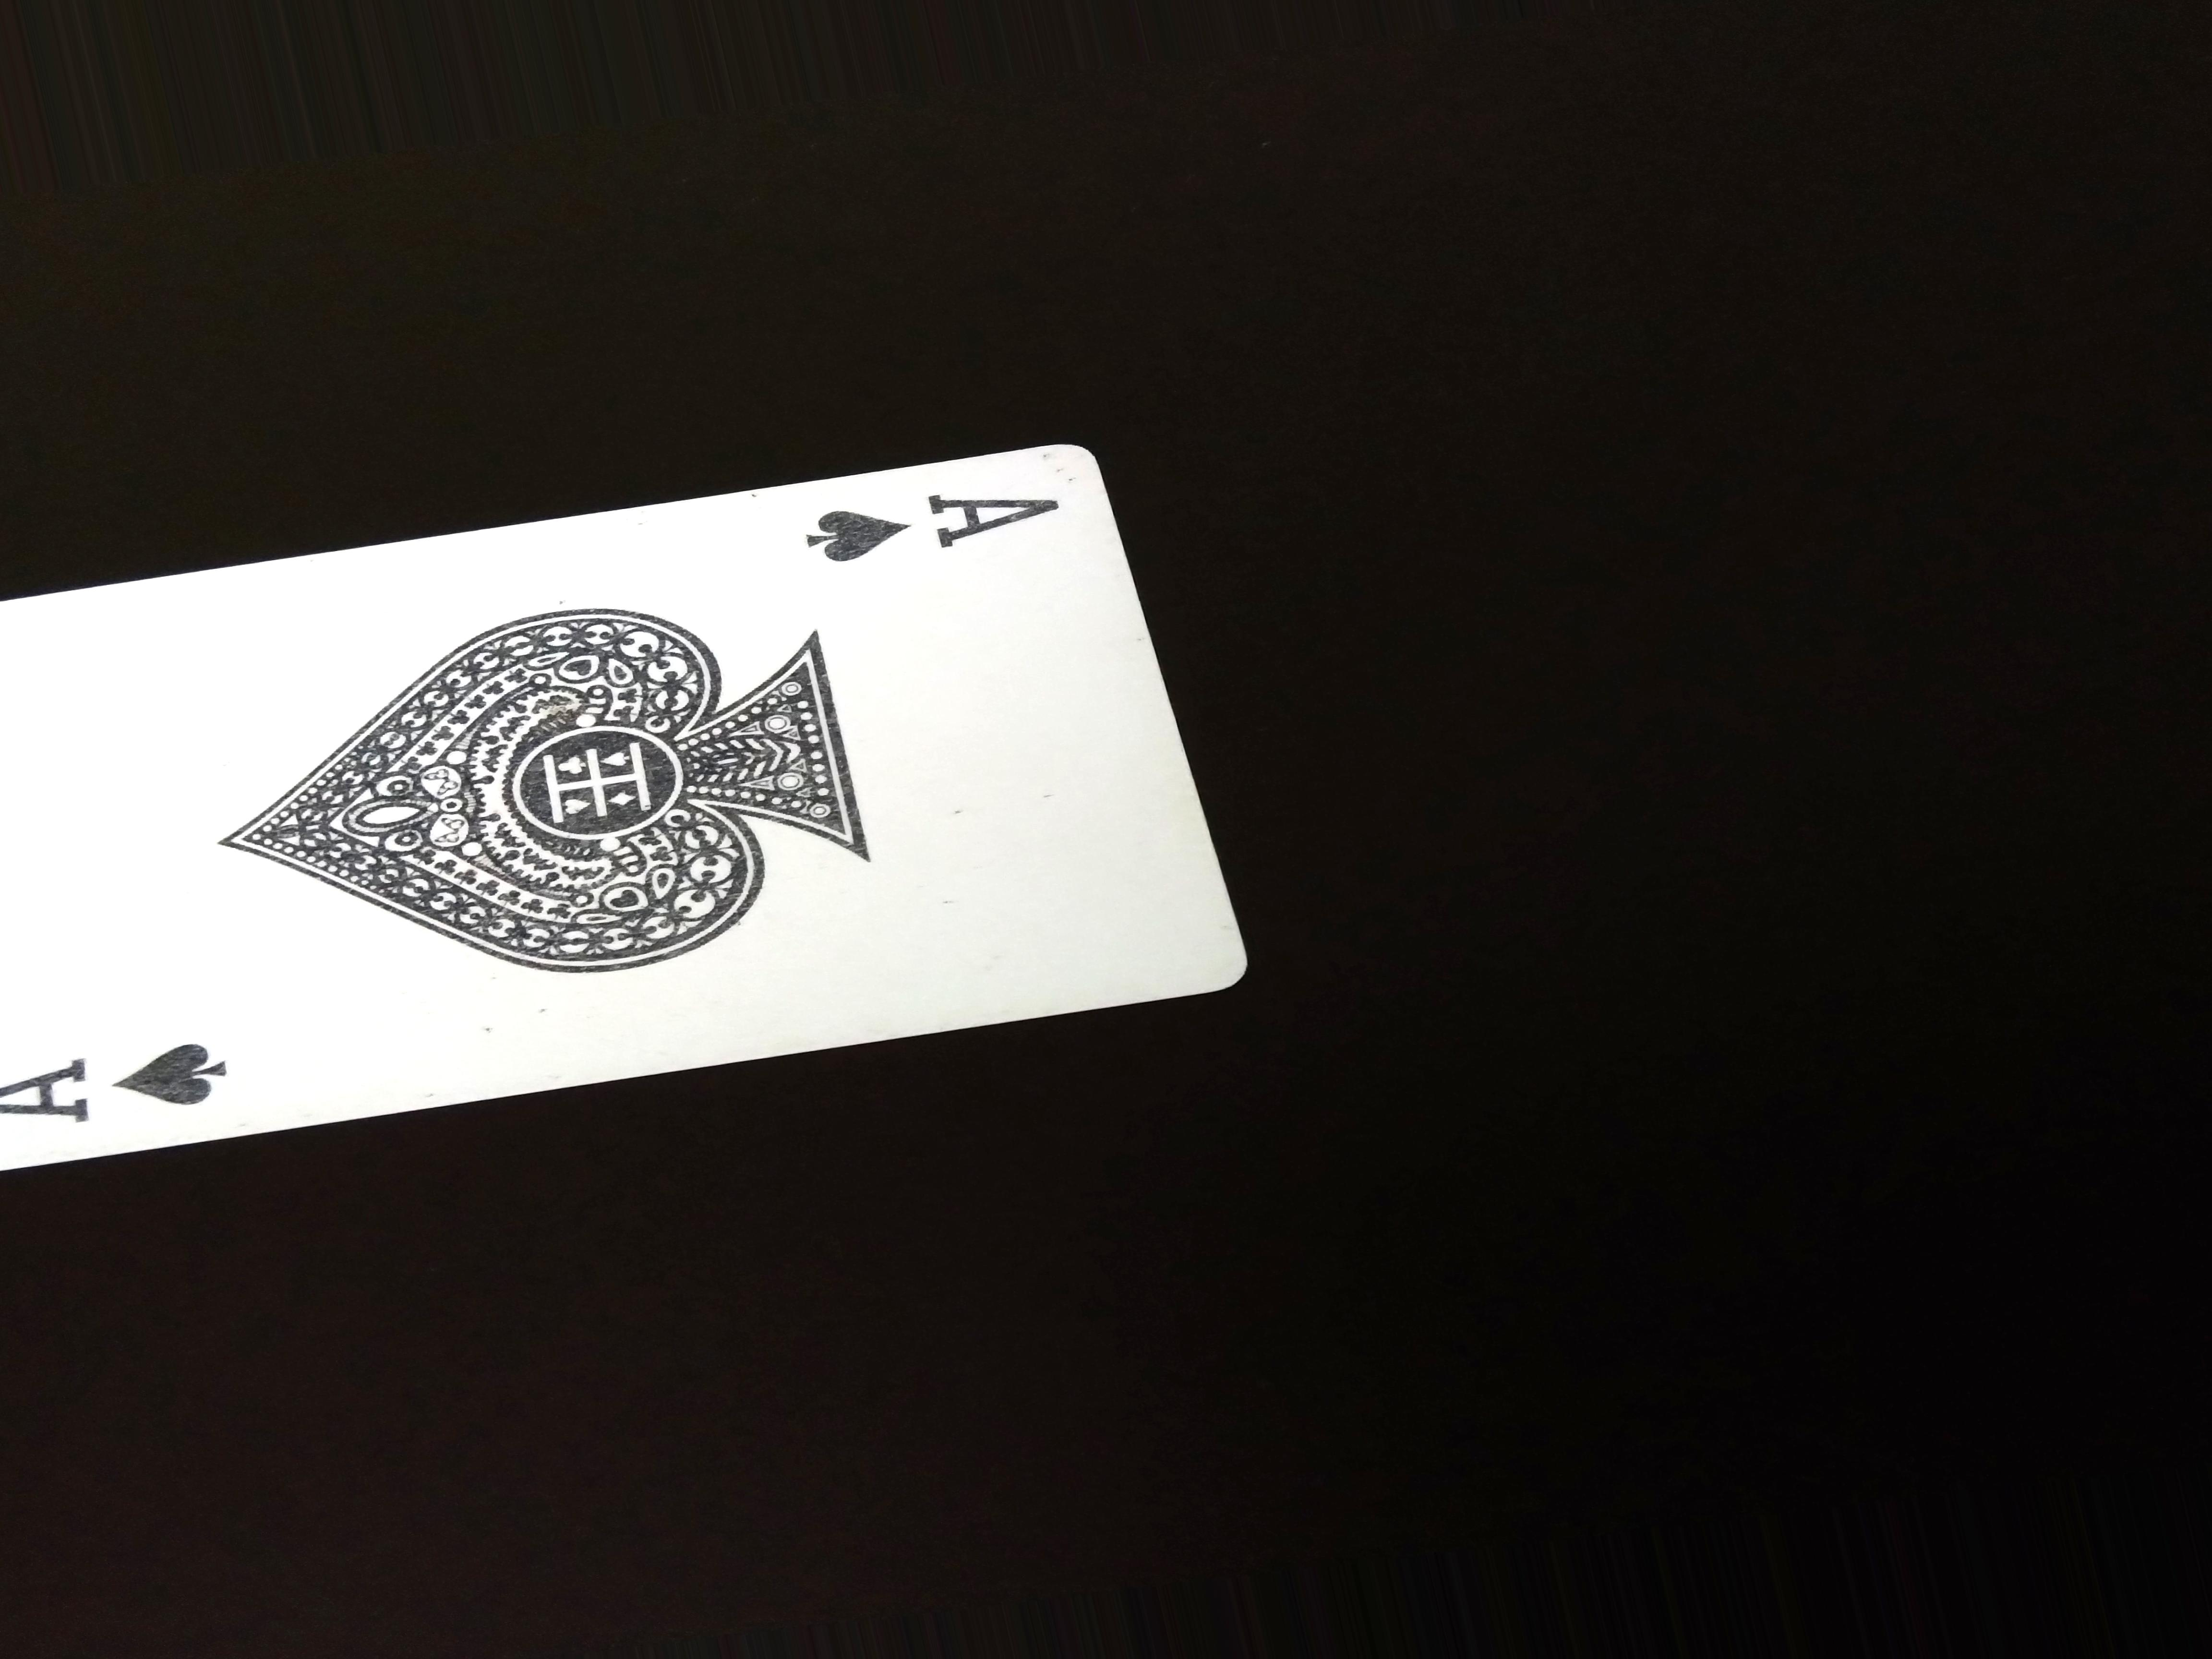AS: (796, 464, 1075, 580)
